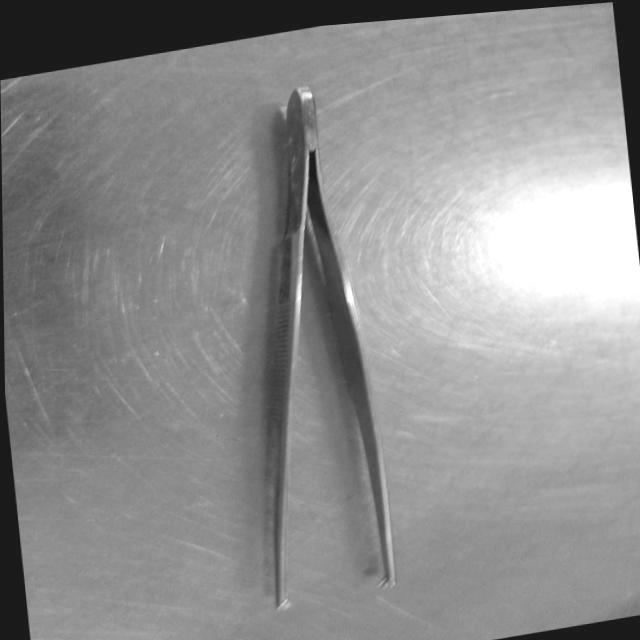General: (1, 2, 640, 639)
Sharps: (269, 84, 398, 610)
